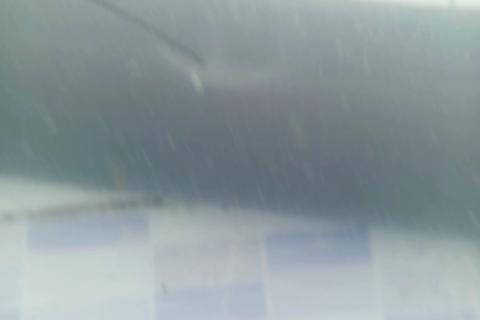keretakan: (84, 0, 207, 72)
